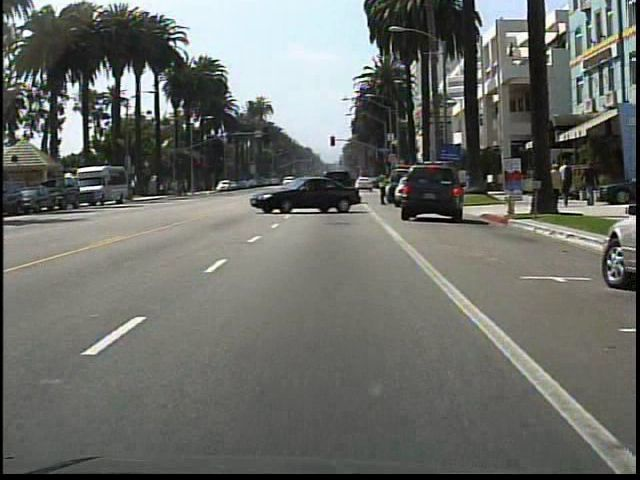person: (581, 155, 602, 208), (559, 159, 575, 212), (376, 171, 393, 211), (551, 164, 562, 211)
